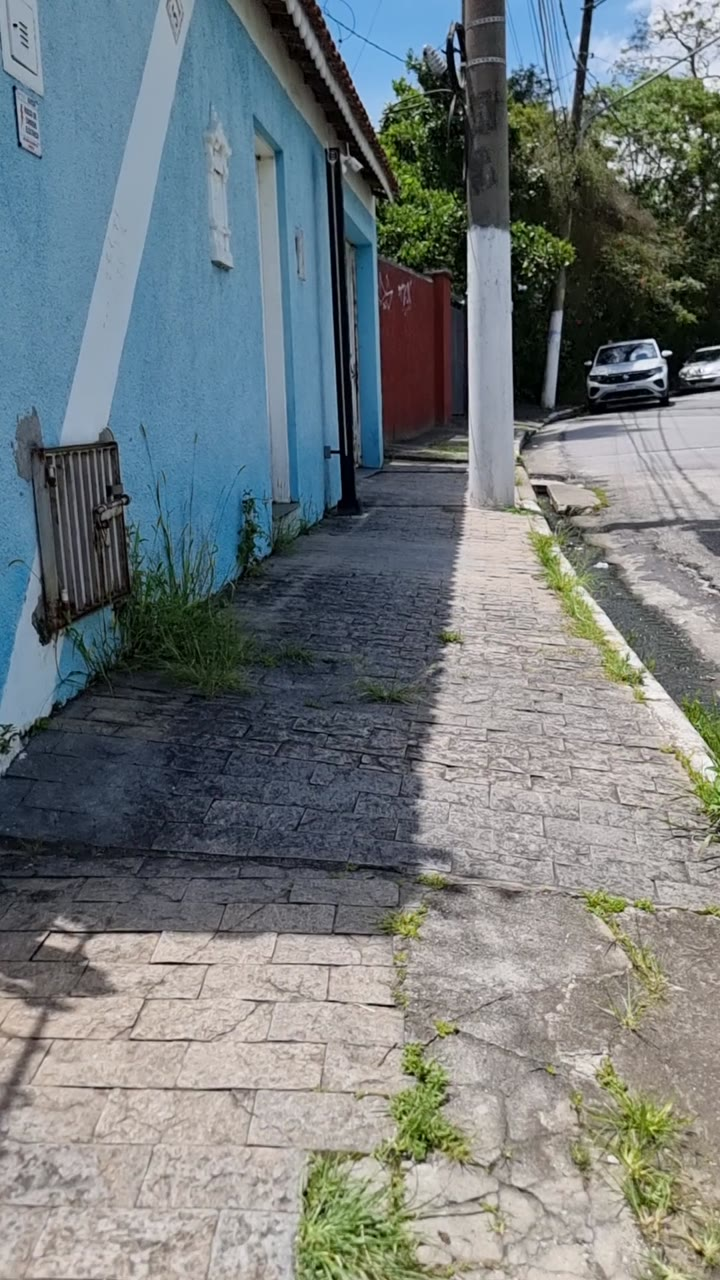obstaculo: (461, 0, 518, 474)
